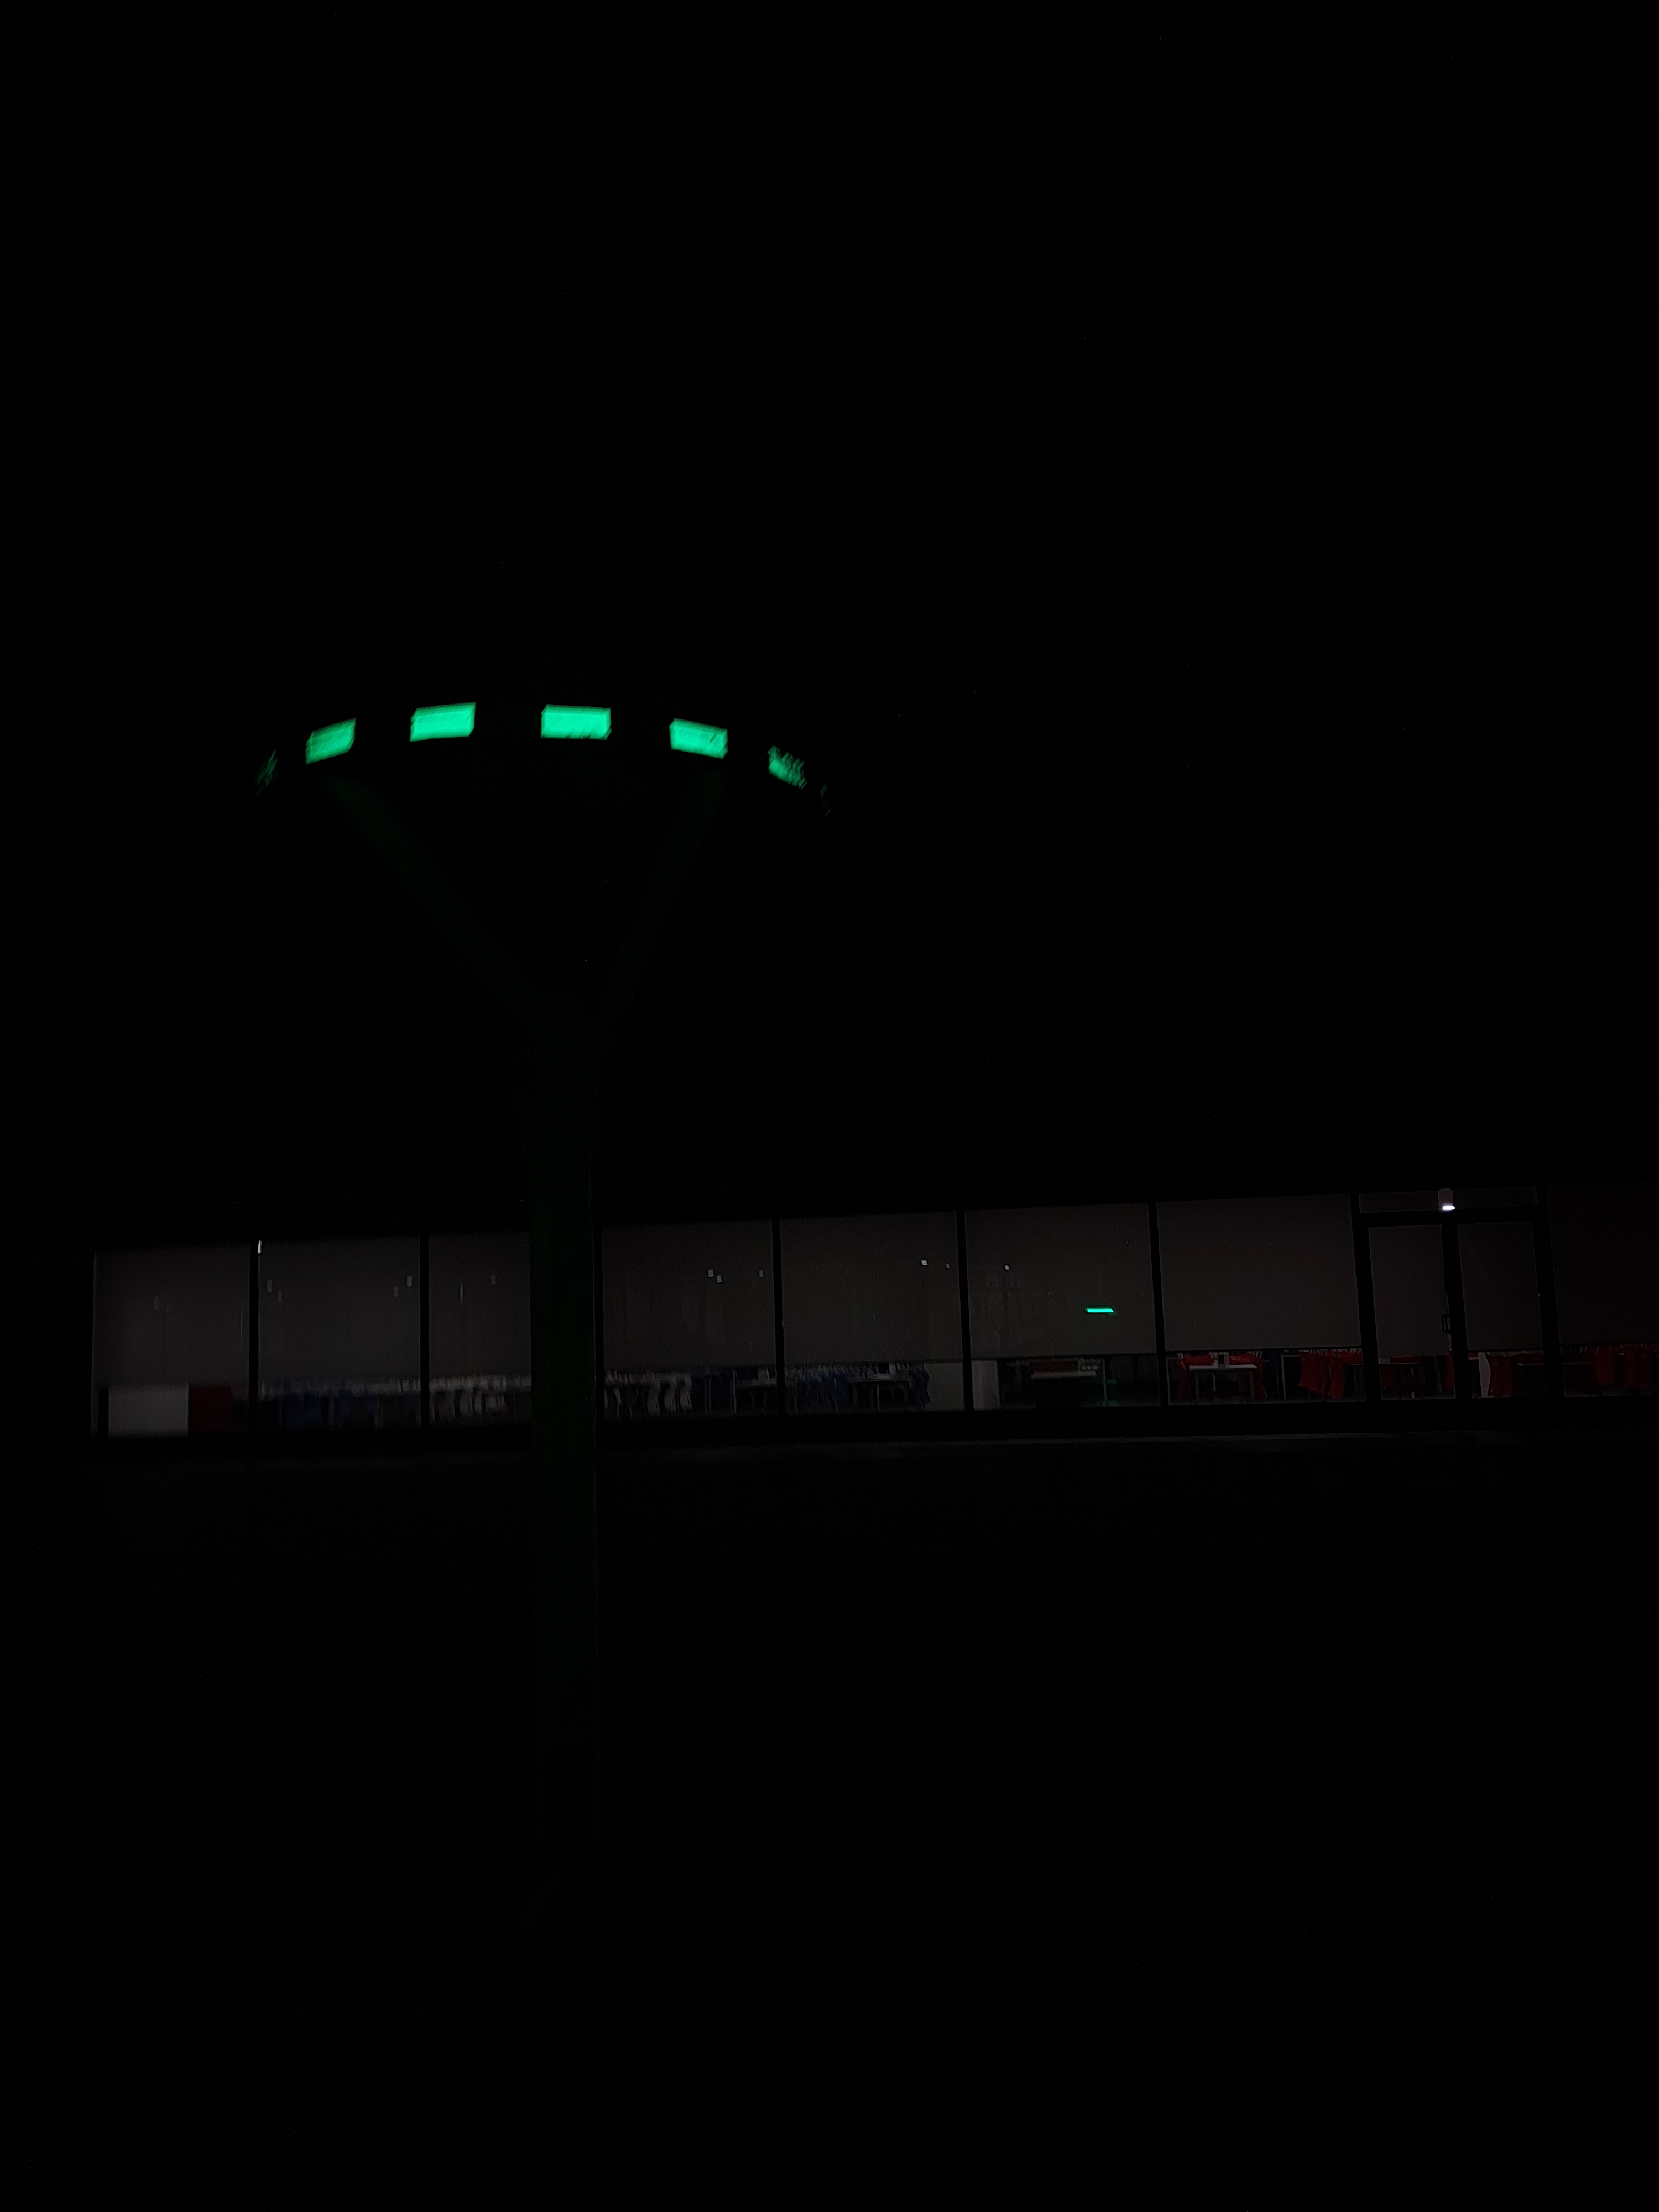hoop: (286, 697, 810, 796)
